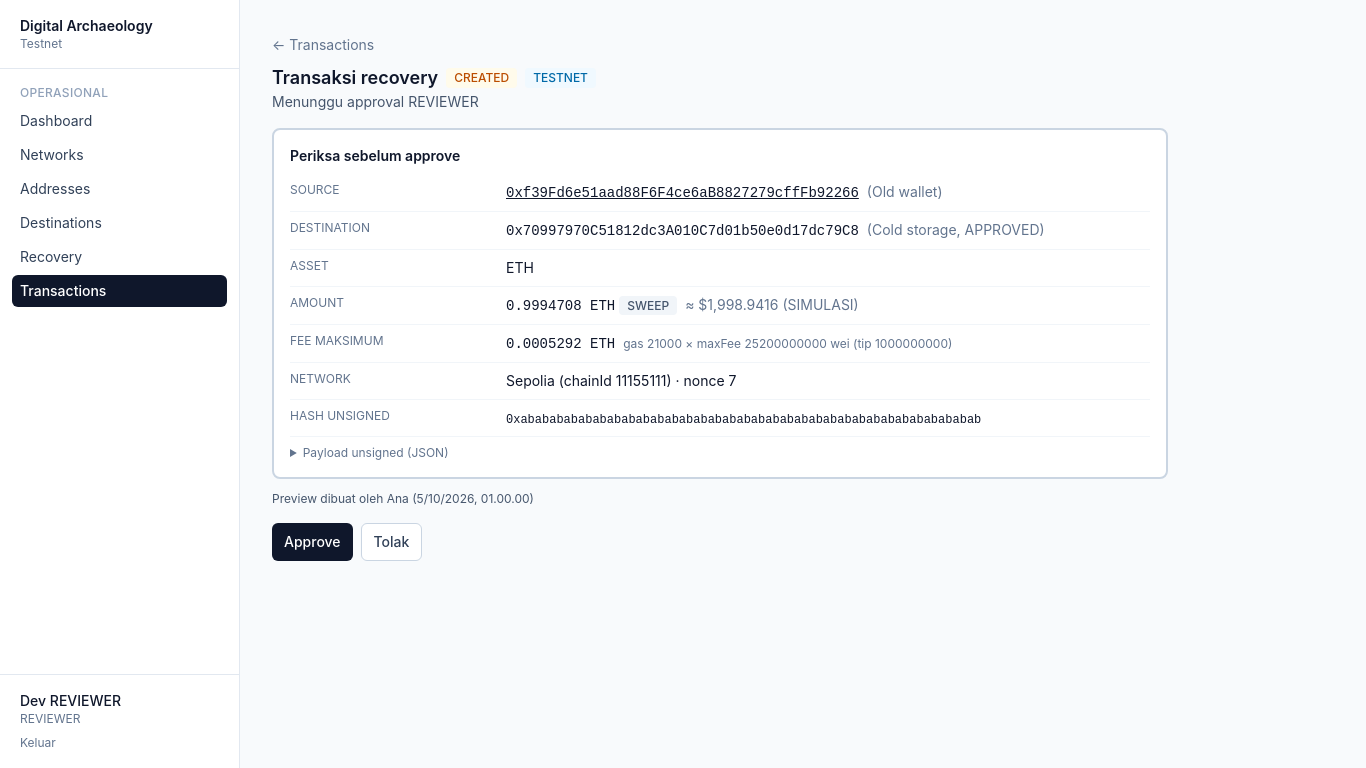
Scenario: Transaction detail (SA 4.8 review) › shows why an expired preview cannot be approved
Click the button "Approve" at (312, 542), box [272,523,353,561]
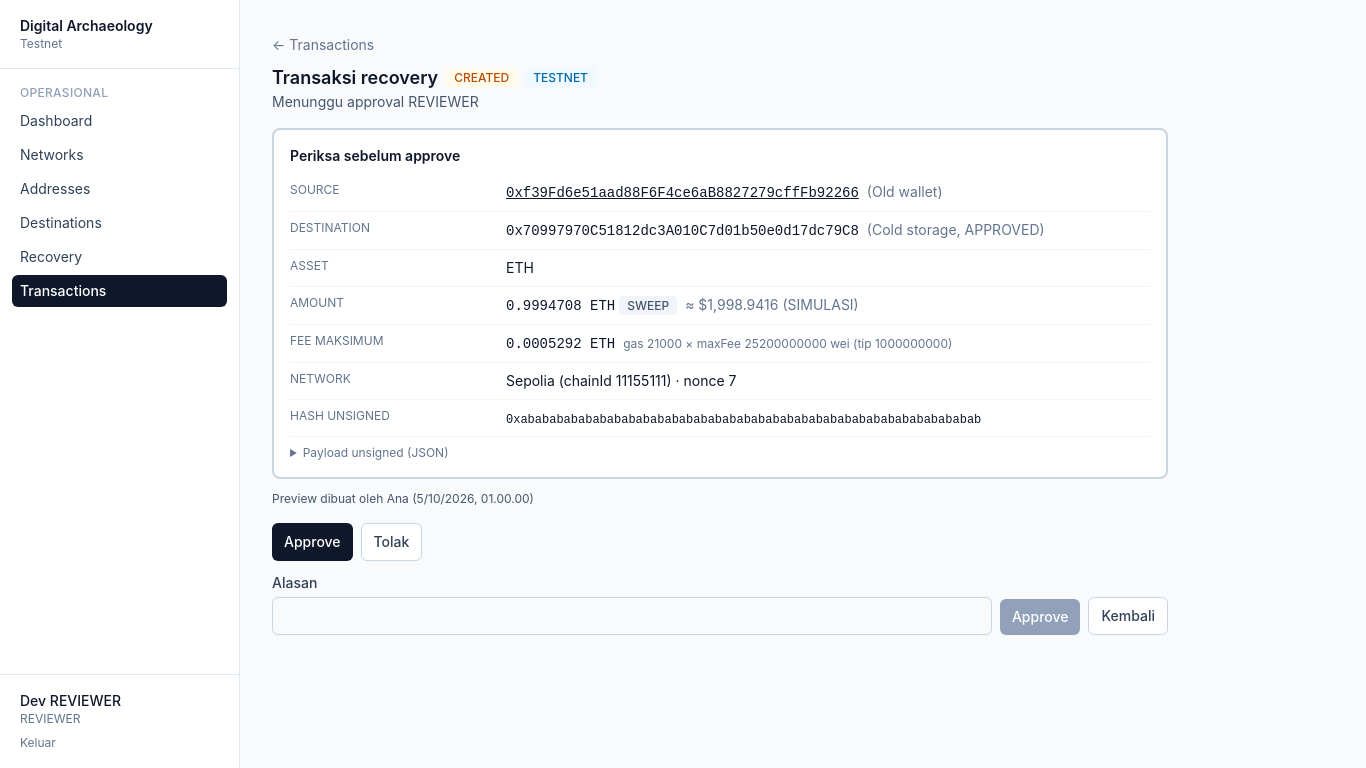
Type "Looks fine" into the field labelled "Alasan" at (632, 616), box [272,597,992,635]
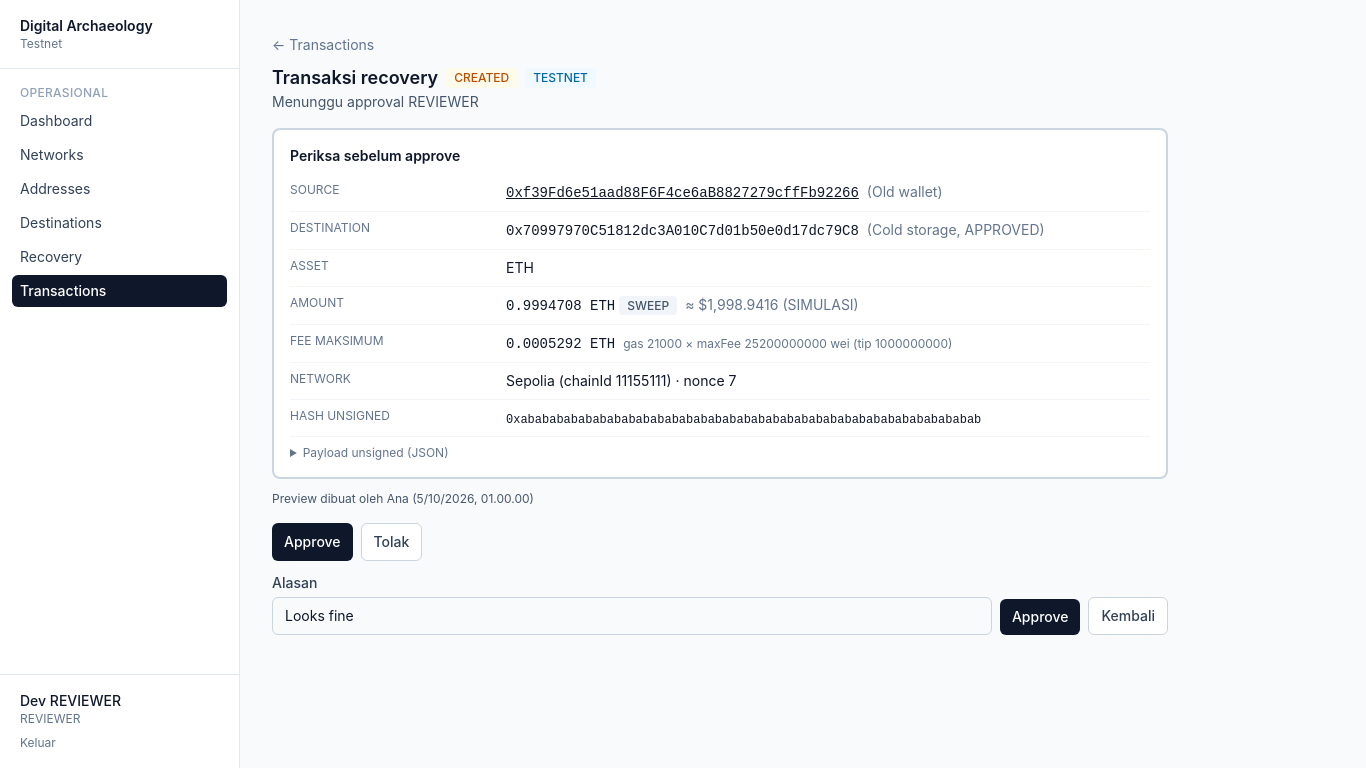
Click the 2nd button "Approve" at (1040, 617), box [1000,599,1080,635]
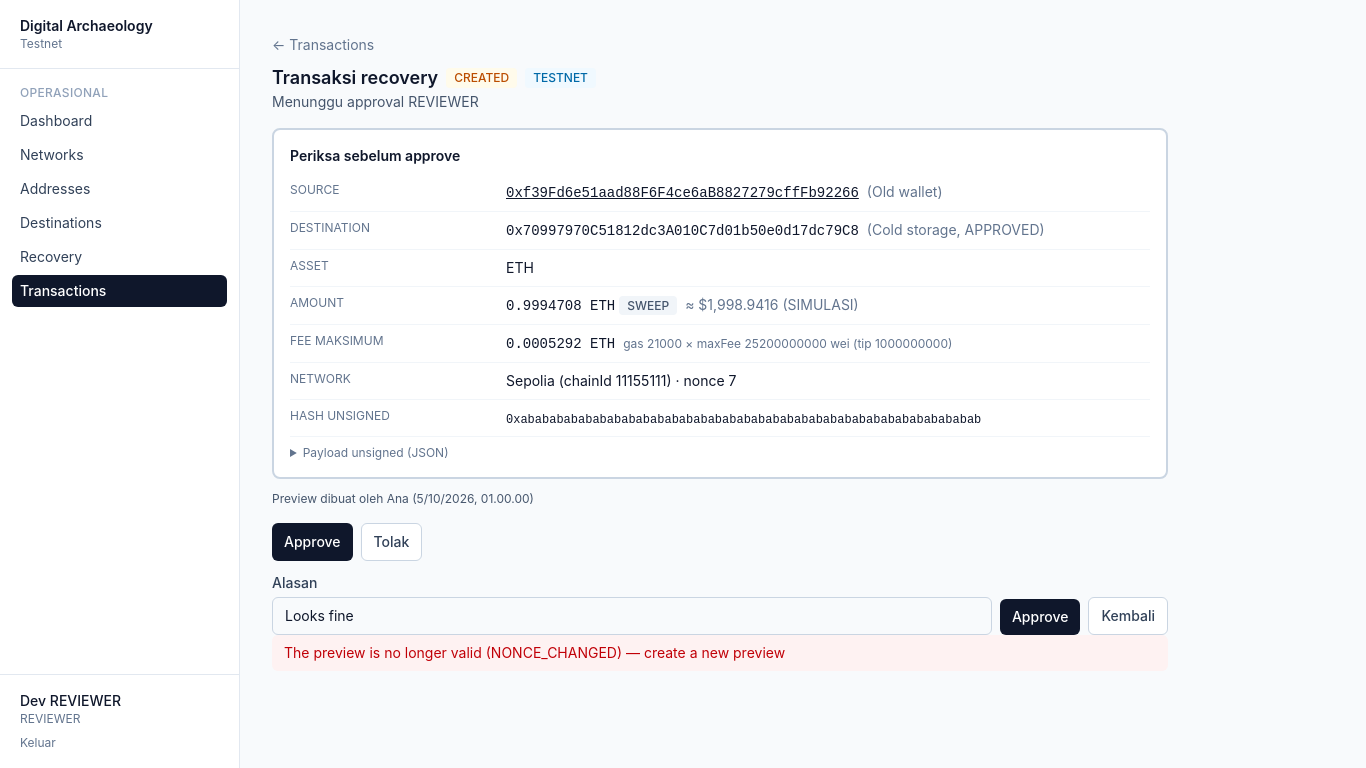
Check: the message shows "NONCE_CHANGED", box [284,644,785,661]
